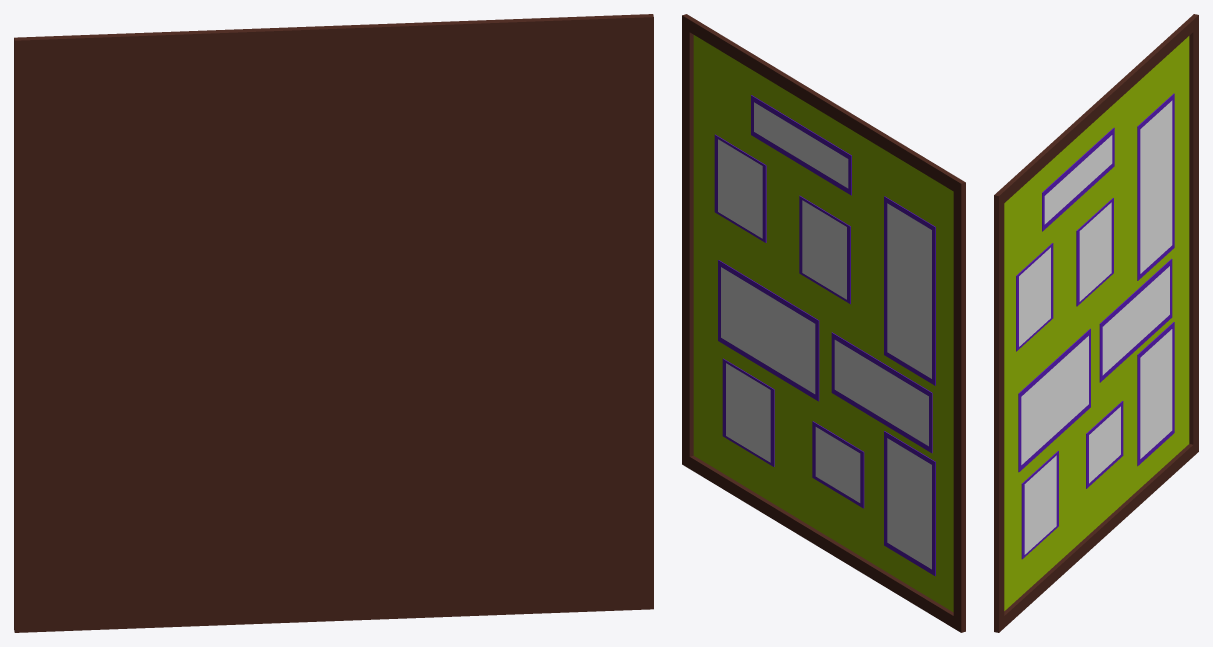
Rendered from Bulletin board.obj.
3 renders of one model, left to right at view 1: azimuth 30°, elevation 25°; view 2: azimuth 150°, elevation 25°; view 3: azimuth 270°, elevation 25°, orthographic. The views are drawn at different scales.
Visible parts, largest first — view 1: Box001; view 2: Box001, Box004, Box002, Box010, Box003, Box009, Box006, Box005, Box007, Box008; view 3: Box001, Box002, Box004, Box010, Box003, Box005, Box006, Box007, Box009, Box008.
Boxes of the visible parts, bbox=[...] form: Box001: bbox=[14, 14, 653, 632]; Box001: bbox=[682, 14, 965, 632]; Box004: bbox=[718, 260, 819, 401]; Box002: bbox=[884, 196, 935, 385]; Box010: bbox=[831, 332, 932, 453]; Box003: bbox=[884, 431, 935, 576]; Box009: bbox=[722, 358, 774, 466]; Box006: bbox=[714, 134, 766, 242]; Box005: bbox=[751, 95, 851, 195]; Box007: bbox=[799, 195, 850, 304]; Box008: bbox=[812, 421, 864, 508]; Box001: bbox=[994, 14, 1198, 632]; Box002: bbox=[1137, 93, 1174, 280]; Box004: bbox=[1018, 328, 1090, 472]; Box010: bbox=[1099, 258, 1172, 382]; Box003: bbox=[1137, 322, 1174, 466]; Box005: bbox=[1042, 127, 1114, 231]; Box006: bbox=[1016, 243, 1053, 351]; Box007: bbox=[1076, 198, 1113, 306]; Box009: bbox=[1021, 450, 1058, 559]; Box008: bbox=[1086, 401, 1123, 488].
Bounding box in the file's own units: 513141 × 573624 × 243891.
